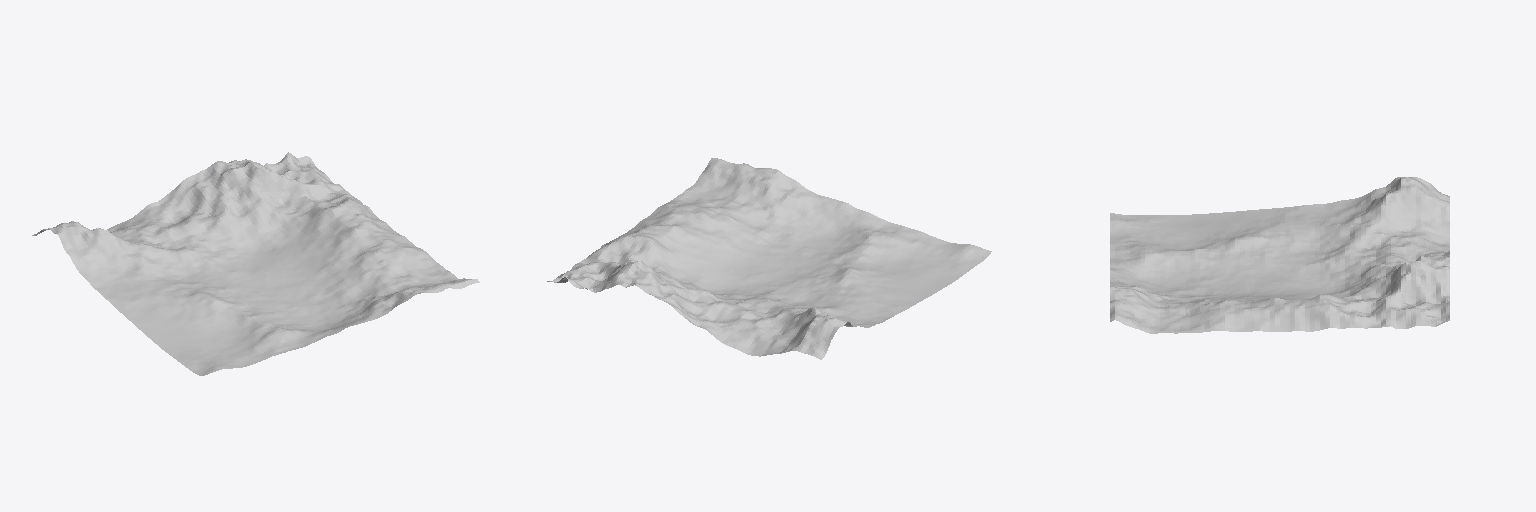
The model's file is ground4.obj.
3 renders of one model, left to right at view 1: azimuth 30°, elevation 25°; view 2: azimuth 150°, elevation 25°; view 3: azimuth 270°, elevation 25°, orthographic.
Visible parts, largest first — view 1: ground4; view 2: ground4; view 3: ground4.
Part boxes in pixels (x1,y1,x2,y2): ground4: (32, 152, 479, 375); ground4: (547, 158, 991, 359); ground4: (1110, 177, 1449, 333).
Bounding box in the file's own units: 84.46 × 15.73 × 89.74.